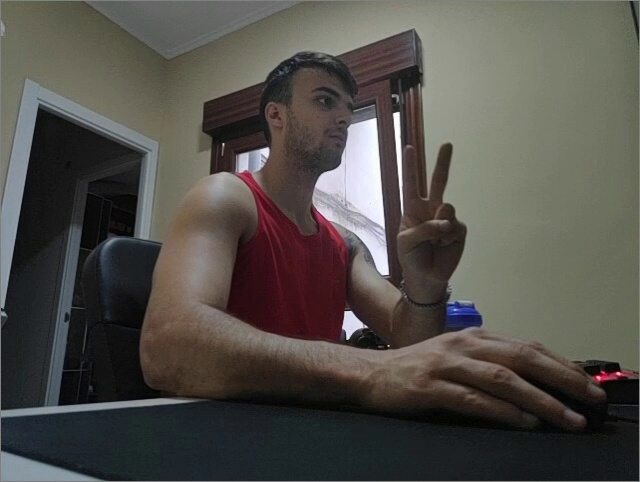Peace: (394, 140, 471, 283)
